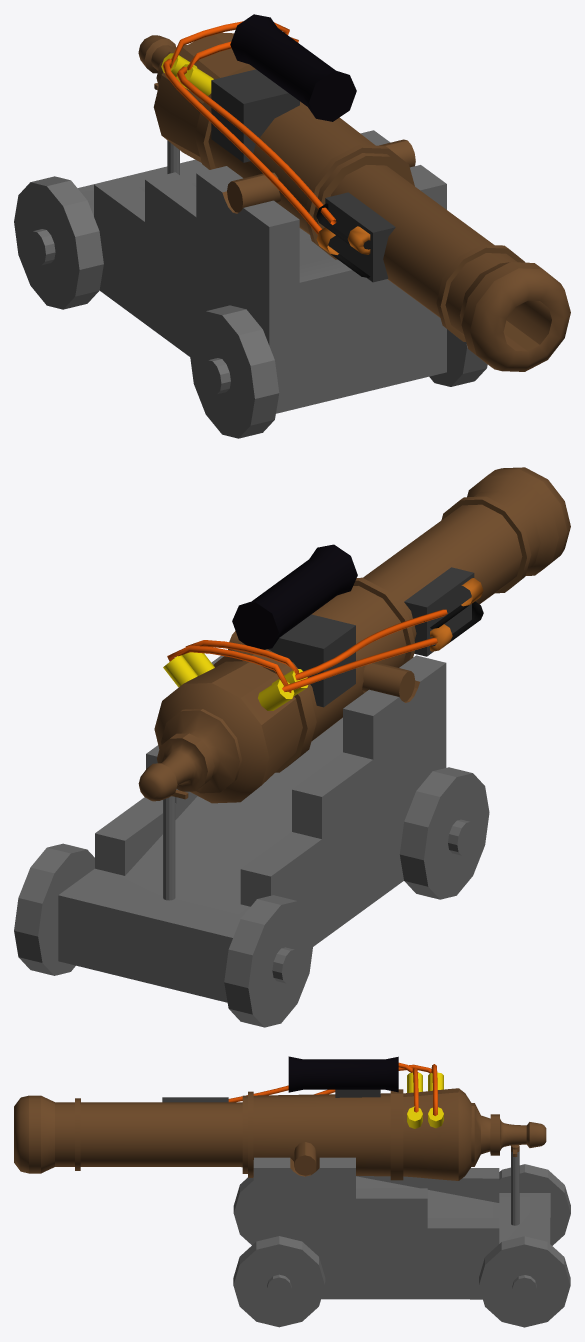
File: cannon.fbx
The picture shows the model from 3 angles, top to bottom: view 1: azimuth 30°, elevation 25°; view 2: azimuth 150°, elevation 25°; view 3: azimuth 270°, elevation 25°; orthographic projection. The views are drawn at different scales.
Visible parts, largest first — view 1: Cannon Base.001, scope, wIRES, bATTERY, Capacitors; view 2: Cannon Base.001, scope, wIRES, Capacitors, bATTERY; view 3: Cannon Base.001, scope, wIRES, Capacitors.
Boxes of the visible parts, x1=… form: Cannon Base.001: x1=14, y1=32, x2=570, y2=438; scope: x1=230, y1=14, x2=356, y2=121; wIRES: x1=163, y1=21, x2=336, y2=234; bATTERY: x1=316, y1=203, x2=370, y2=277; Capacitors: x1=161, y1=53, x2=213, y2=95; Cannon Base.001: x1=14, y1=467, x2=570, y2=1027; scope: x1=232, y1=544, x2=357, y2=649; wIRES: x1=167, y1=609, x2=447, y2=692; Capacitors: x1=163, y1=652, x2=308, y2=710; bATTERY: x1=430, y1=578, x2=483, y2=651; Cannon Base.001: x1=14, y1=1088, x2=570, y2=1327; scope: x1=288, y1=1056, x2=398, y2=1092; wIRES: x1=228, y1=1062, x2=437, y2=1115; Capacitors: x1=407, y1=1072, x2=443, y2=1128.
Size of the model in its own units: 76.94 by 95.22 by 209.
